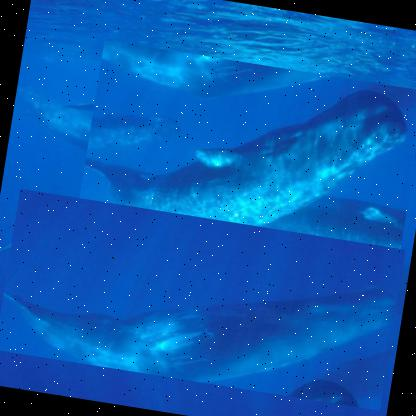sperm_whale: (0, 189, 407, 413), (74, 39, 415, 280)
